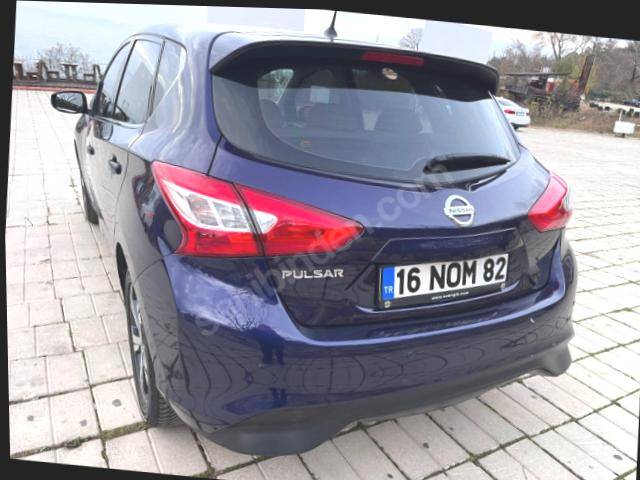plaka: (380, 252, 510, 299)
